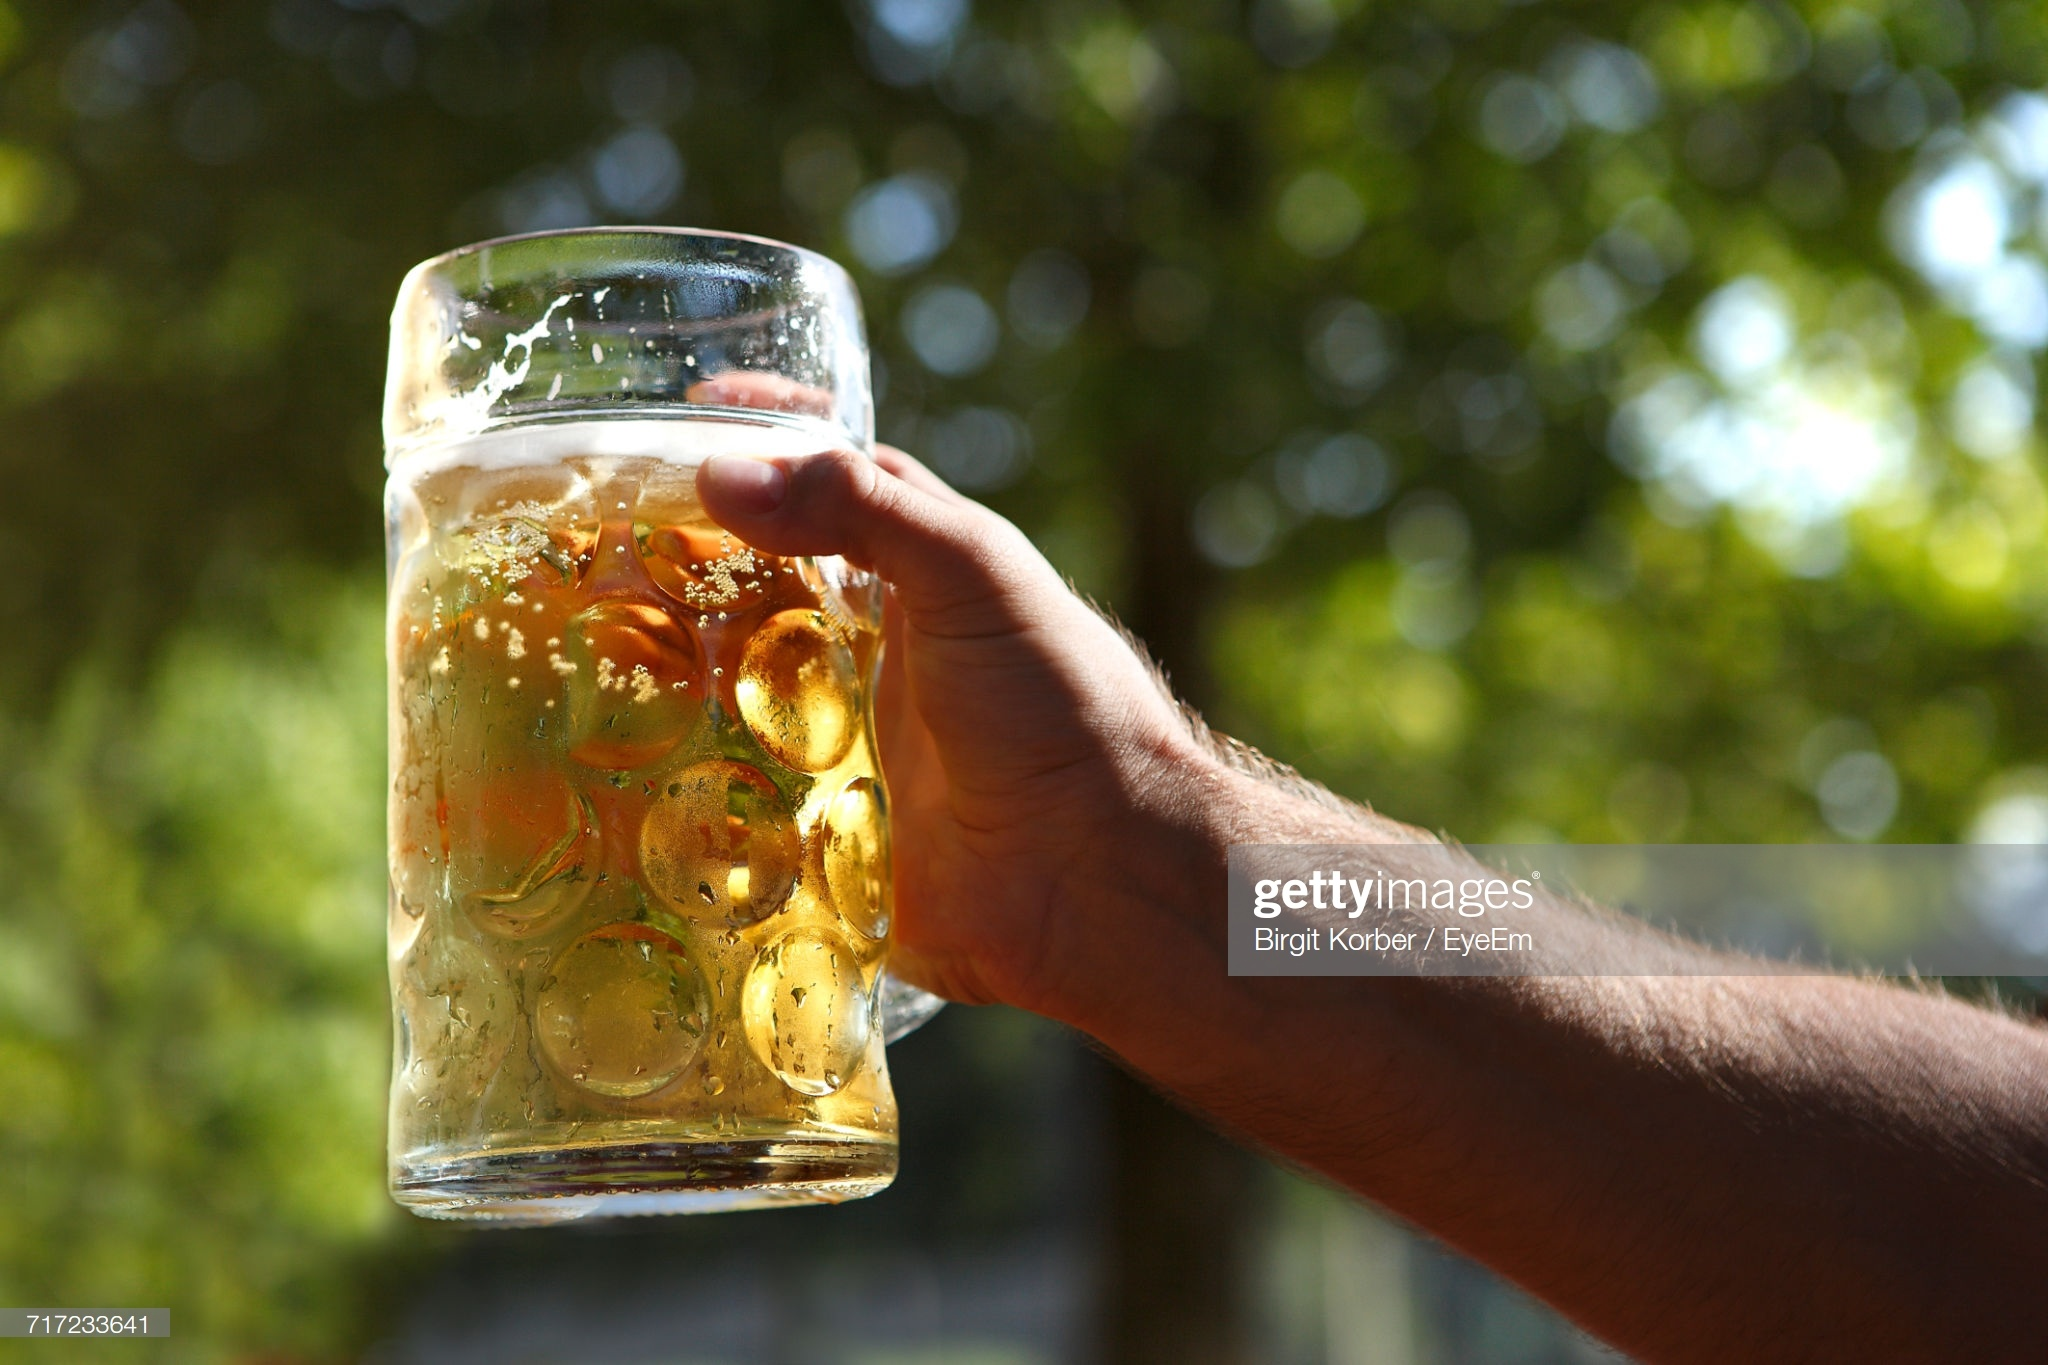glassBeer: (382, 238, 908, 1222)
